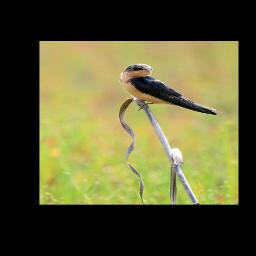Swallow: (118, 61, 228, 118)
